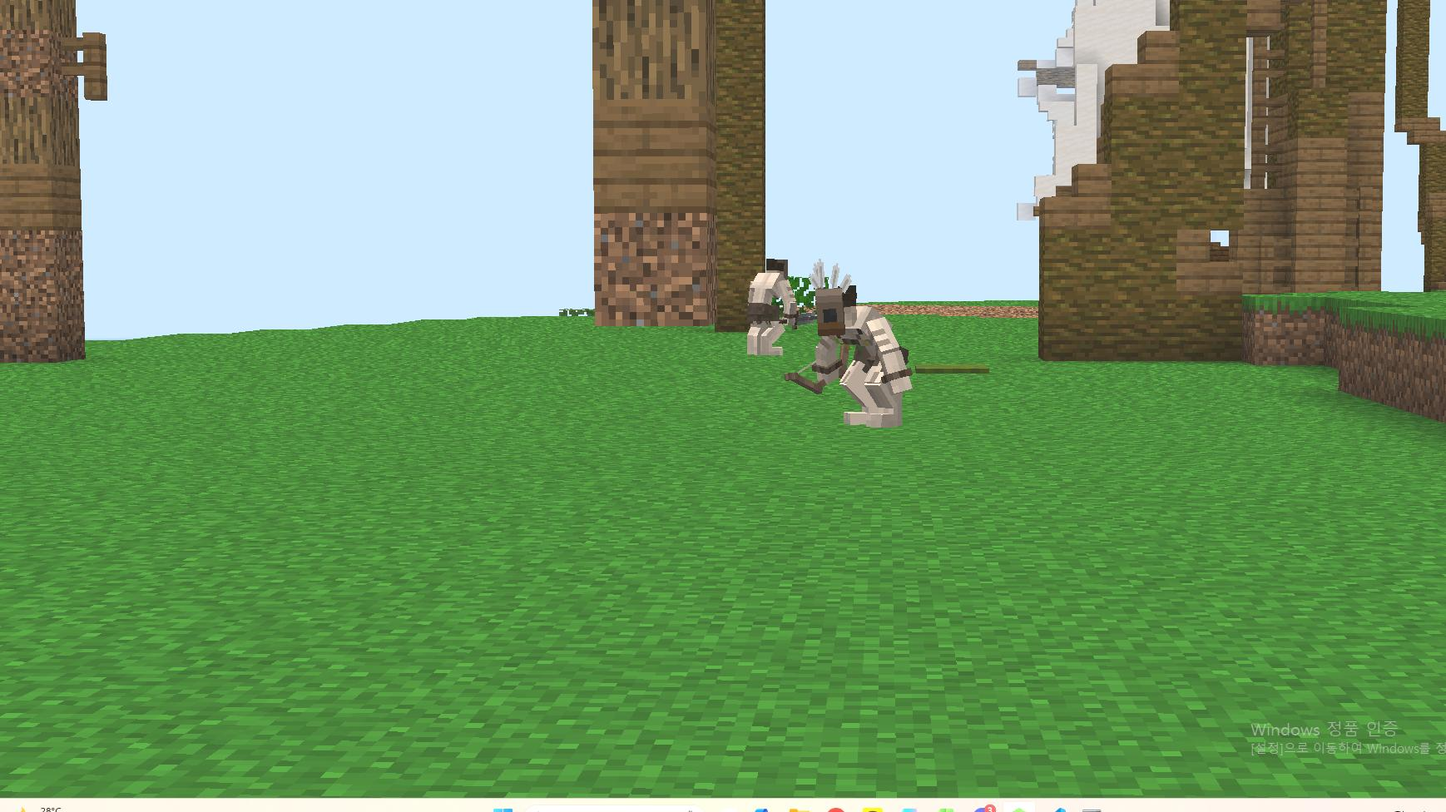bow_indian: (778, 259, 924, 434)
